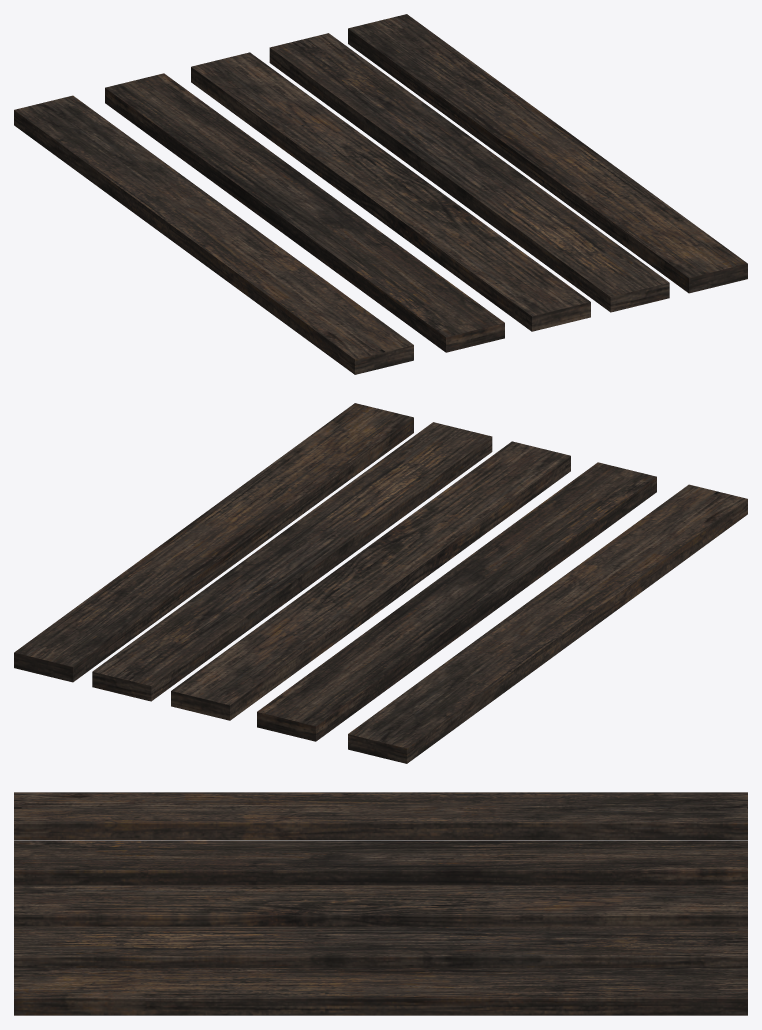
The model's file is WoodBoards.fbx.
3 renders of one model, top to bottom at view 1: azimuth 30°, elevation 25°; view 2: azimuth 150°, elevation 25°; view 3: azimuth 270°, elevation 25°, orthographic. The views are drawn at different scales.
Parts seen in each view (by area): view 1: Wood_Board_D, Wood_Board_E, Wood_Board_B, Wood_Board_C, Wood_Board_A; view 2: Wood_Board_D, Wood_Board_E, Wood_Board_B, Wood_Board_C, Wood_Board_A; view 3: Wood_Board_B, Wood_Board_C, Wood_Board_E, Wood_Board_A, Wood_Board_D.
Boxes of the visible parts, x1,y1,x2,y2 form: Wood_Board_D: (269,33,669,312); Wood_Board_E: (105,73,504,352); Wood_Board_B: (348,14,747,293); Wood_Board_C: (14,95,413,374); Wood_Board_A: (191,52,590,331); Wood_Board_D: (92,422,492,701); Wood_Board_E: (257,462,656,741); Wood_Board_B: (14,403,413,682); Wood_Board_C: (348,484,747,763); Wood_Board_A: (171,441,570,720); Wood_Board_B: (14,968,747,1015); Wood_Board_C: (14,792,747,839); Wood_Board_E: (14,840,747,885); Wood_Board_A: (14,885,747,926); Wood_Board_D: (14,926,747,967).
Bounding box in the file's own units: 133 × 5 × 200.
Materials: 1 (1 with a texture image).
